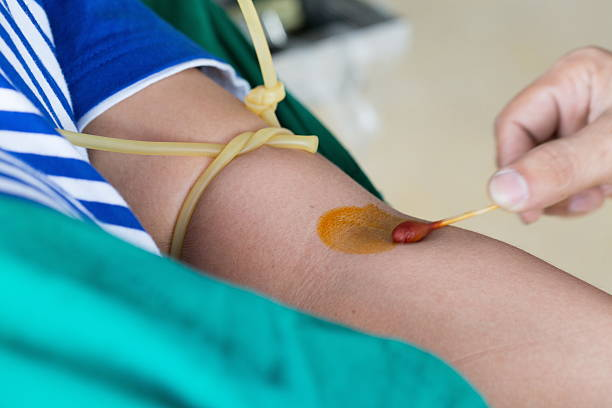blood: (319, 203, 415, 256)
